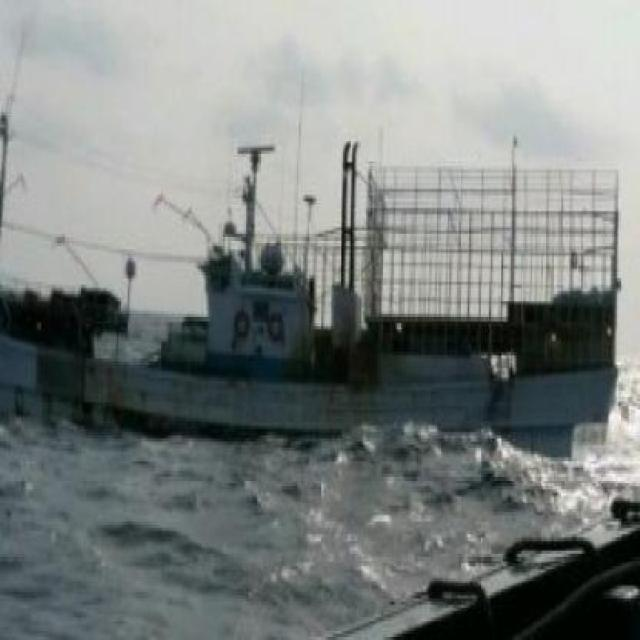fish-b: (1, 125, 636, 479)
